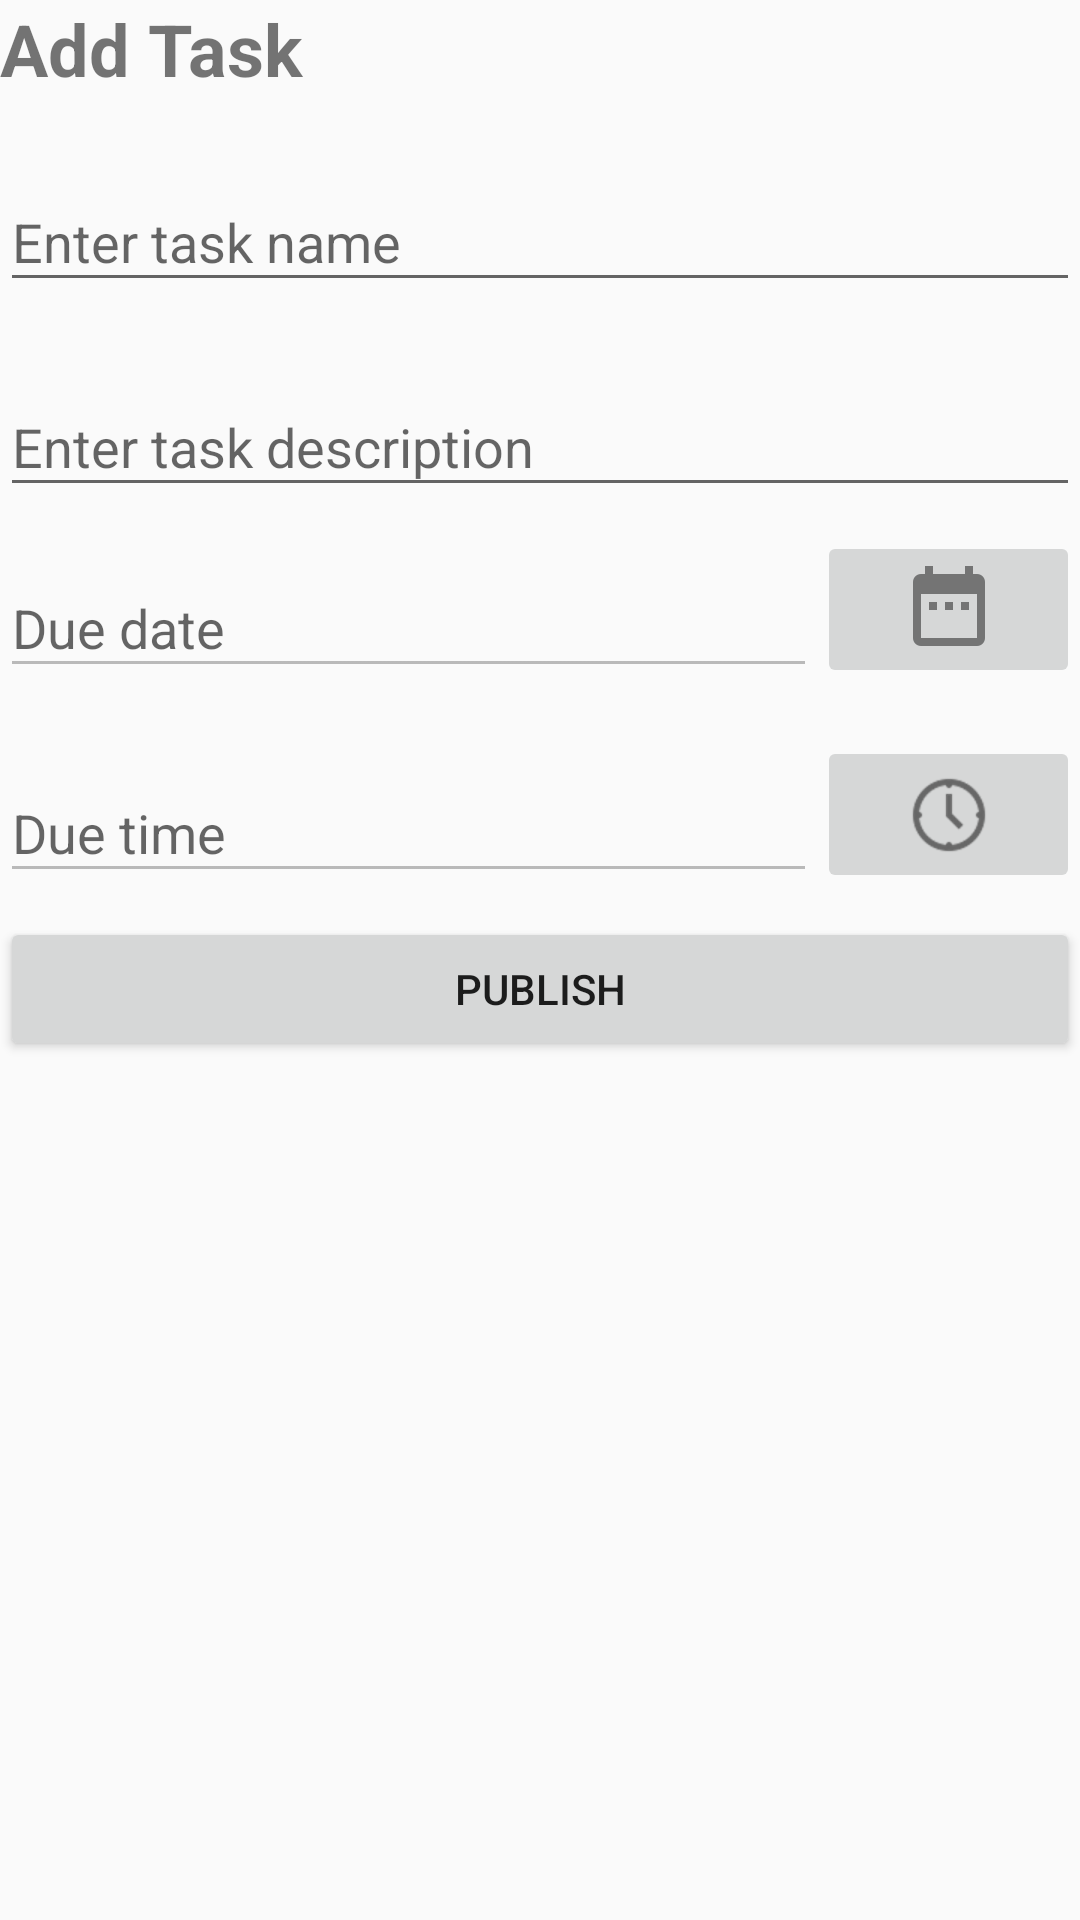

Icons on this 1080x1920 Android screen, each with the point to tap as (x,y):
calendar range: (948,609)
time range: (948,814)
